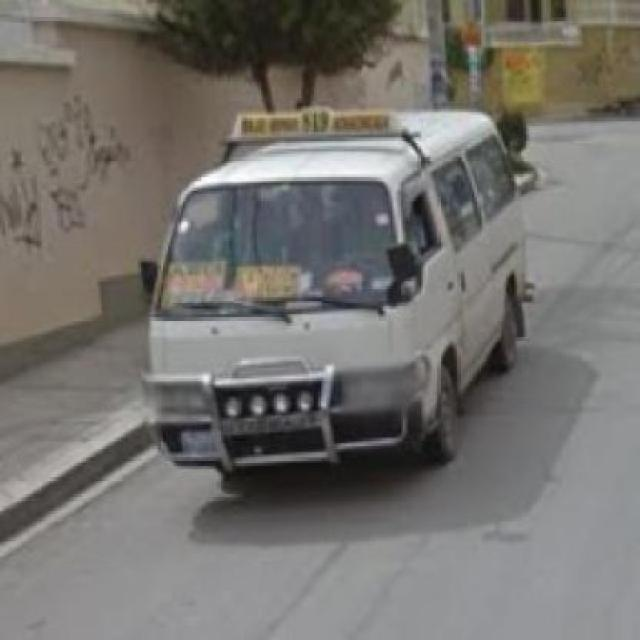car: (144, 116, 524, 476)
